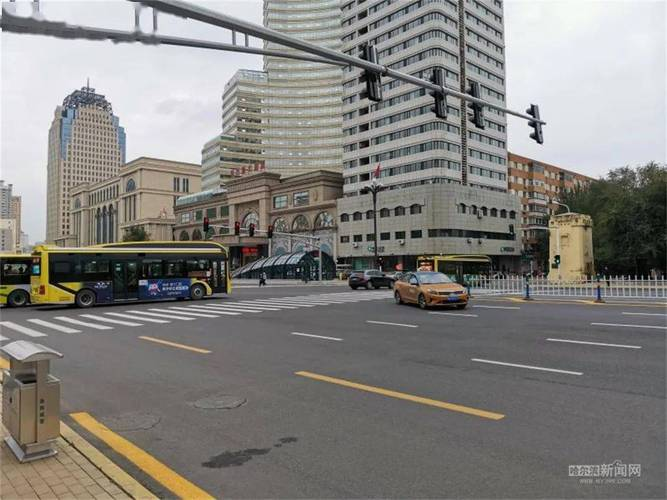bus: (14, 245, 235, 309), (0, 254, 38, 307)
car: (392, 272, 470, 309), (348, 272, 395, 290), (349, 273, 371, 290)
person: (259, 271, 268, 288)
traffic light: (359, 46, 384, 100), (466, 81, 489, 128), (430, 68, 451, 119), (526, 103, 546, 148), (202, 217, 209, 234), (250, 223, 255, 238), (235, 222, 240, 235), (268, 225, 273, 238), (556, 257, 563, 264)
